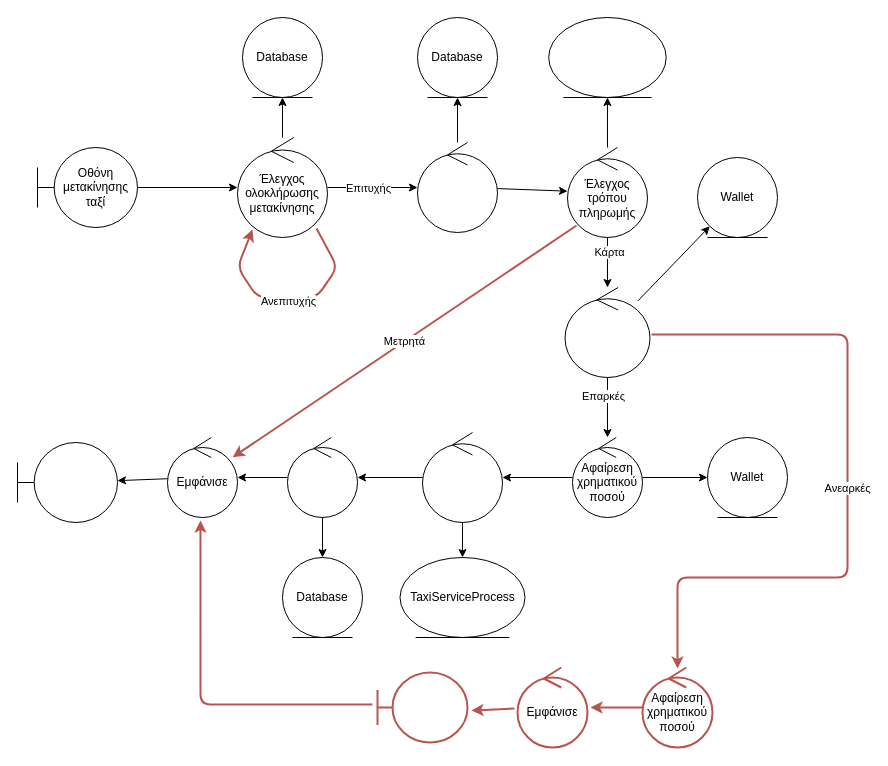
This 888x766 diagram has some shape labels left out. Here are the shapes that lost their labels. From the top down, the box of each, then its label:
(548, 16, 666, 98): TaxiServiceProgress
(416, 142, 498, 232): Ανάκτηση κόστους μετακίνησης
(564, 286, 650, 378): Έχει ο πελάτης επαρκές υπόλοιπο;
(16, 442, 118, 522): Αρχική οθόνη
(286, 436, 358, 518): Ενημέρωση
(422, 432, 502, 522): Υπολογσιμός πόντων
(376, 671, 468, 743): Μήνυμα σφάλματος
